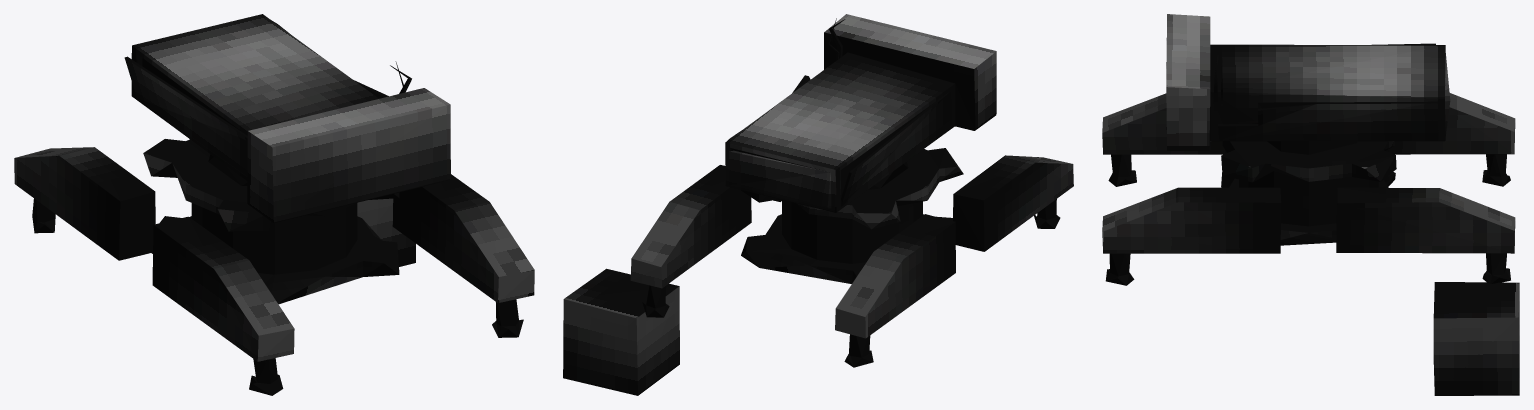
The model's file is stationary_turret_base_broken.fbx.
3 views of the same model, side by side, from view 1: azimuth 30°, elevation 25°; view 2: azimuth 150°, elevation 25°; view 3: azimuth 270°, elevation 25° (orthographic). The views are drawn at different scales.
Visible parts, largest first — view 1: turret_base_broken, turret_base_pivot_broken, turret_base_leg_b_l_broken, turret_base_leg_b_r_broken, turret_base_leg_f_l_broken, turret_base_block_broken; view 2: turret_base_broken, turret_base_pivot_broken, turret_base_block_broken, turret_base_leg_f_l_broken, turret_base_leg_f_r_broken, turret_base_leg_b_l_broken; view 3: turret_base_broken, turret_base_leg_b_r_broken, turret_base_leg_f_r_broken, turret_base_pivot_broken, turret_base_block_broken, turret_base_leg_f_l_broken, turret_base_leg_b_l_broken, turret_base_turn_broken.
Part boxes in pixels (<box>): turret_base_broken: <box>124,14,450,222</box>; turret_base_pivot_broken: <box>143,139,399,304</box>; turret_base_leg_b_l_broken: <box>152,216,294,395</box>; turret_base_leg_b_r_broken: <box>392,174,534,337</box>; turret_base_leg_f_l_broken: <box>14,147,155,260</box>; turret_base_block_broken: <box>357,198,415,266</box>; turret_base_broken: <box>725,14,996,212</box>; turret_base_pivot_broken: <box>741,148,963,283</box>; turret_base_block_broken: <box>563,268,679,395</box>; turret_base_leg_f_l_broken: <box>835,214,955,367</box>; turret_base_leg_f_r_broken: <box>630,165,751,317</box>; turret_base_leg_b_l_broken: <box>953,155,1073,251</box>; turret_base_broken: <box>1166,14,1450,150</box>; turret_base_leg_b_r_broken: <box>1102,187,1281,285</box>; turret_base_leg_f_r_broken: <box>1336,187,1515,283</box>; turret_base_pivot_broken: <box>1221,141,1396,245</box>; turret_base_block_broken: <box>1433,282,1519,395</box>; turret_base_leg_f_l_broken: <box>1386,93,1515,186</box>; turret_base_leg_b_l_broken: <box>1102,93,1226,186</box>; turret_base_turn_broken: <box>1267,141,1357,154</box>.
Size of the model in its own units: 404 by 359 by 488.
Materials: 1 (1 with a texture image).
